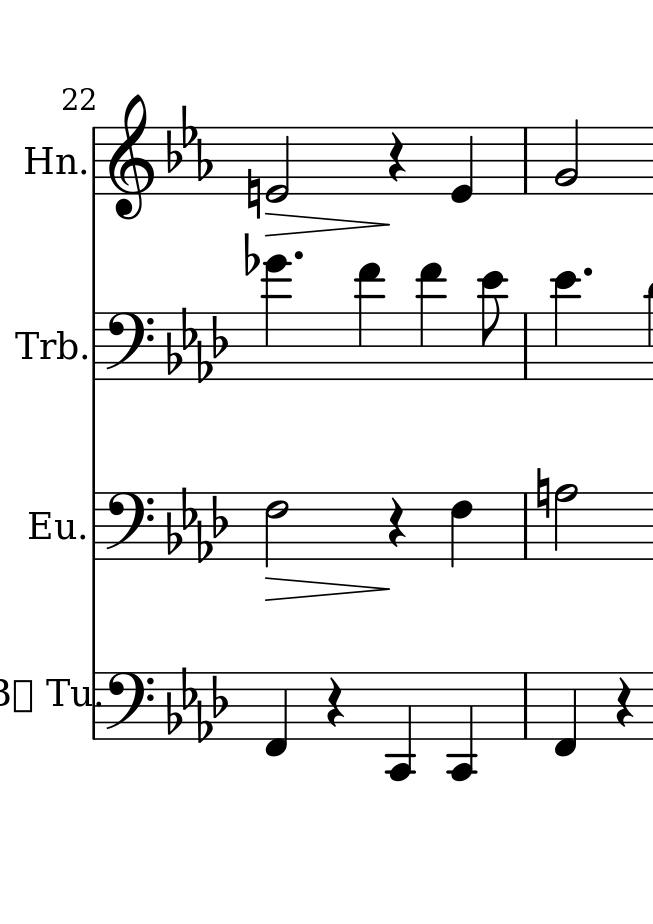2: (60, 87, 79, 111), (78, 86, 96, 111)
2_0: (263, 126, 292, 203)
2_2: (554, 118, 580, 195)
2_6: (264, 492, 288, 566)
2_8: (553, 482, 578, 563)
4_-1: (263, 670, 290, 758), (553, 670, 578, 760)
4_-4: (387, 671, 416, 781), (448, 671, 477, 781)
4_0: (450, 123, 475, 207)
4_12: (551, 269, 580, 381)
4_13: (355, 262, 383, 382), (416, 262, 444, 382)
4_14: (262, 254, 290, 382)
4_6: (449, 490, 474, 568)
8_12: (480, 268, 505, 382)
A_F: (165, 661, 227, 744), (166, 486, 227, 567), (165, 307, 227, 386)
Diminuendo_hairpin: (264, 575, 392, 602)
E_F: (167, 102, 212, 183)
Fclef: (103, 670, 154, 741), (104, 491, 154, 562), (105, 311, 154, 382)
Flat: (243, 231, 260, 278)
Gclef: (106, 95, 155, 221)
Hn: (26, 145, 76, 180)
Natural: (245, 167, 262, 221), (536, 466, 550, 521)
Rests4: (386, 497, 408, 551), (386, 131, 408, 184), (324, 677, 345, 731), (614, 676, 633, 730)
Single_barline: (87, 671, 103, 742), (518, 493, 534, 559), (518, 127, 533, 194), (519, 672, 534, 739), (518, 313, 533, 378), (88, 493, 102, 560), (88, 314, 102, 379), (89, 127, 101, 195)
Trb: (16, 324, 77, 367)
dot: (263, 210, 391, 238), (581, 265, 594, 279), (294, 246, 304, 264)
